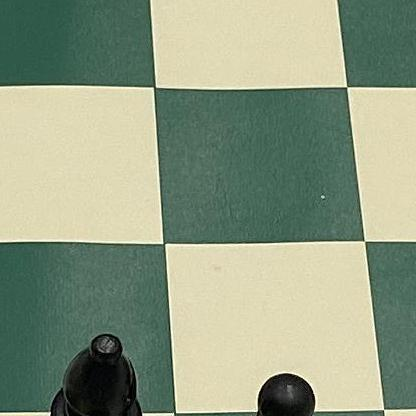black-bishop: (18, 310, 163, 416)
black-pawn: (203, 356, 346, 416)
